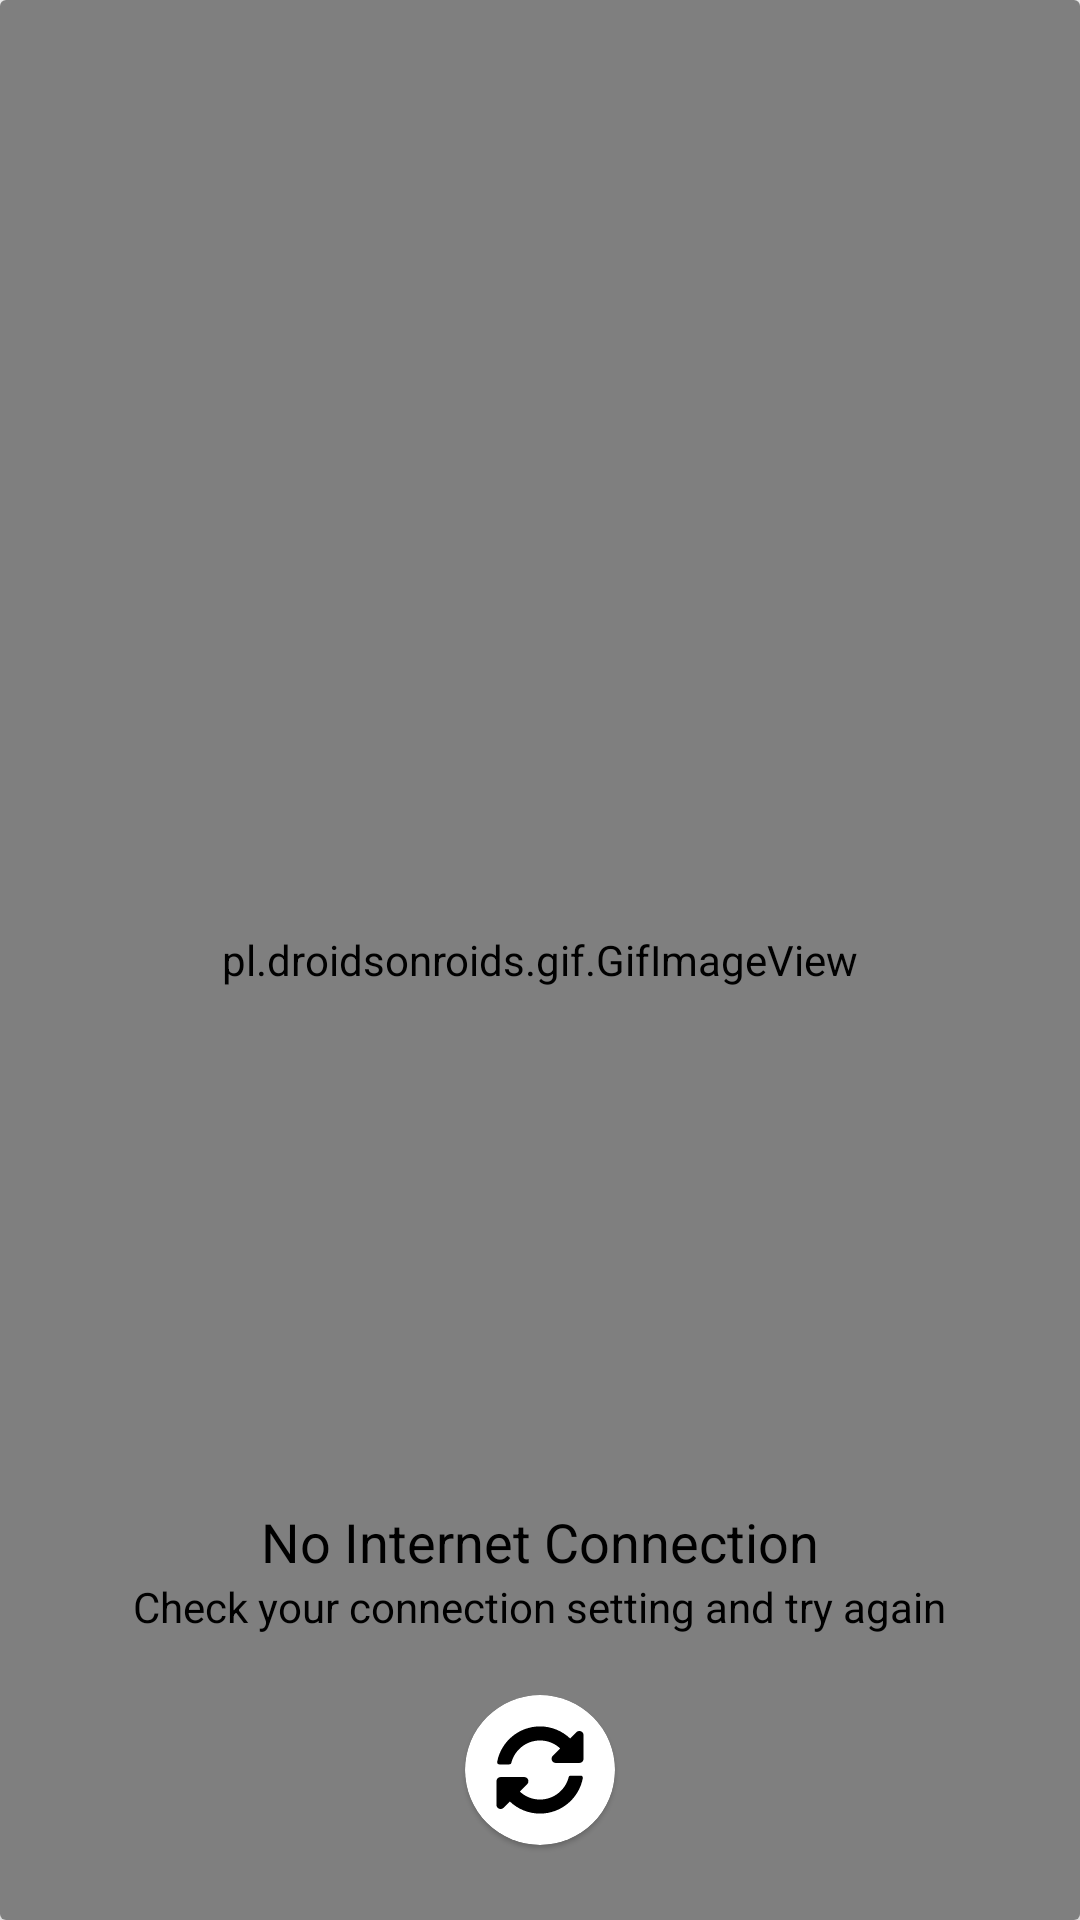

Screen size 1080px x 1920px. Icon name, then its center in pixels as [x,y]:
refresh: [540,1770]
